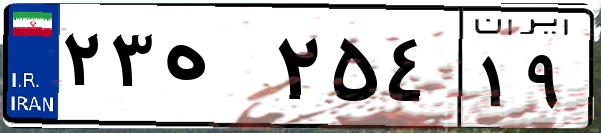1: (475, 38, 525, 113)
2: (270, 28, 330, 110), (57, 26, 110, 100)
3: (110, 28, 158, 98)
4: (385, 28, 445, 110)
5: (330, 28, 385, 110)
9: (525, 38, 570, 115)
ه: (158, 20, 270, 120)
